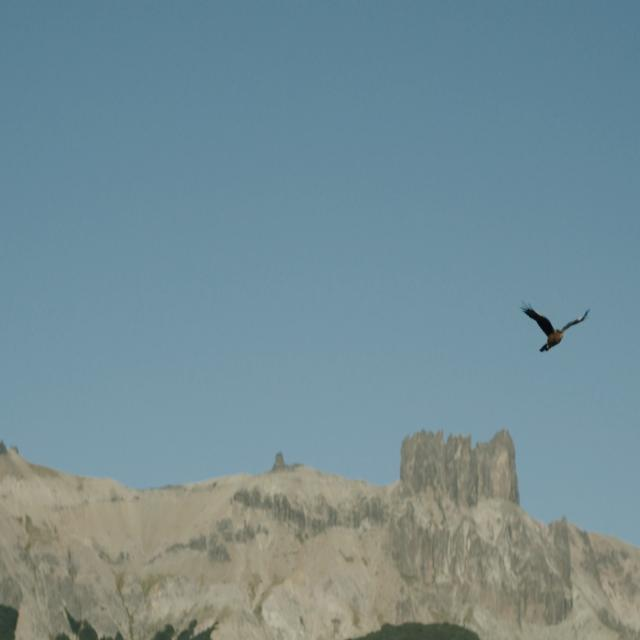bird: (514, 289, 596, 367)
